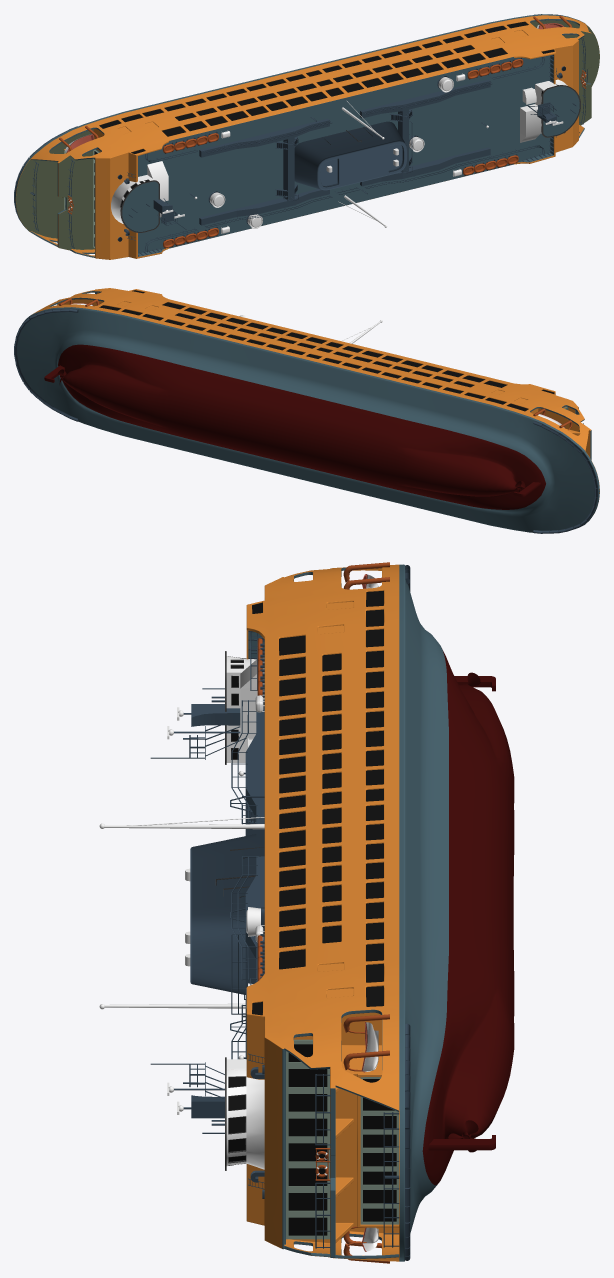
File: ferry.glb
3 renders of one model, top to bottom at view 1: azimuth 30°, elevation 25°; view 2: azimuth 150°, elevation 25°; view 3: azimuth 270°, elevation 25°, orthographic. The views are drawn at different scales.
Parts seen in each view (by area): view 1: 13922_StatenIslandFerry, board, engine_room, rail, 13922_StatenIslandFerry_top, bridge1, boat, bridge2, bridge_top, bridge_roof, boat_holder; view 2: 13922_StatenIslandFerry, rail; view 3: 13922_StatenIslandFerry, door, engine_room, rail, 13922_StatenIslandFerry_top, bridge2, board, bridge_top, boat_holder, bridge1.
Part boxes in pixels (left/top/right/bottom): 13922_StatenIslandFerry: left=14, top=14, right=599, bottom=259; board: left=199, top=79, right=490, bottom=225; engine_room: left=294, top=121, right=407, bottom=190; rail: left=14, top=14, right=587, bottom=256; 13922_StatenIslandFerry_top: left=68, top=73, right=586, bottom=233; bridge1: left=111, top=175, right=158, bottom=231; boat: left=163, top=59, right=523, bottom=247; bridge2: left=535, top=79, right=579, bottom=136; bridge_top: left=129, top=102, right=576, bottom=229; bridge_roof: left=120, top=85, right=580, bottom=232; boat_holder: left=59, top=15, right=586, bottom=214; 13922_StatenIslandFerry: left=17, top=288, right=599, bottom=532; rail: left=14, top=309, right=597, bottom=533; 13922_StatenIslandFerry: left=246, top=564, right=514, bottom=1261; door: left=286, top=1039, right=399, bottom=1239; engine_room: left=190, top=834, right=264, bottom=994; rail: left=230, top=565, right=410, bottom=1260; 13922_StatenIslandFerry_top: left=99, top=657, right=327, bottom=1175; bridge2: left=226, top=1059, right=264, bottom=1169; board: left=245, top=699, right=264, bottom=1059; bridge_top: left=150, top=688, right=246, bottom=1133; boat_holder: left=315, top=562, right=389, bottom=1263; bridge1: left=226, top=656, right=256, bottom=762.
Size of the model in its own units: 9400 by 1847 by 2891.
Materials: 5 (1 with a texture image).
